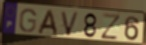6: (124, 16, 141, 42)
8: (84, 12, 97, 38)
A: (36, 8, 59, 36)
G: (18, 8, 38, 34)
V: (60, 10, 81, 37)
Z: (100, 12, 122, 41)
